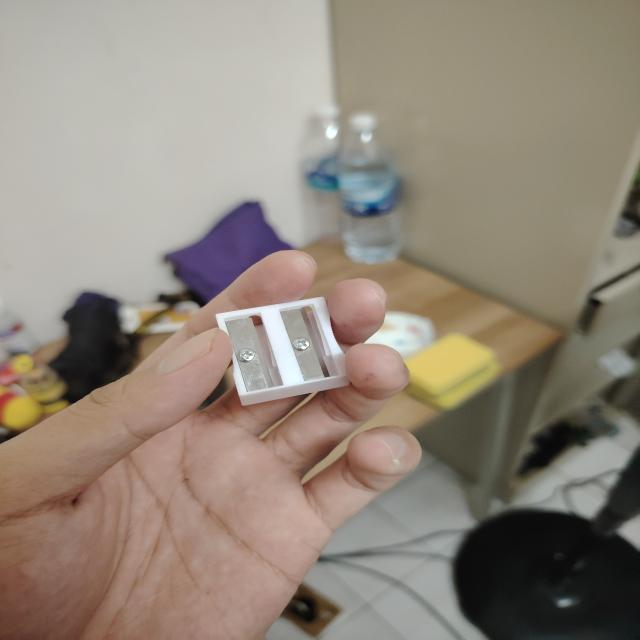sharpener: (216, 297, 349, 405)
